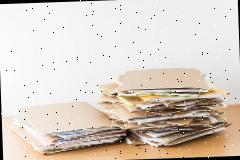paper: (94, 66, 232, 150), (9, 100, 126, 156), (118, 66, 210, 95)
